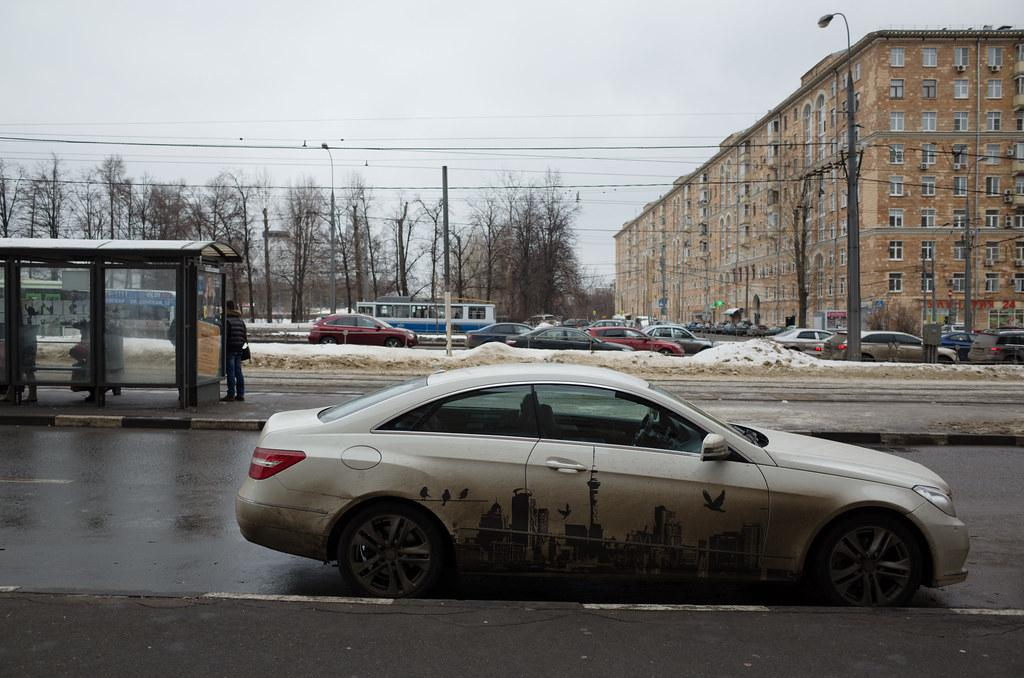car: (236, 362, 972, 608), (821, 331, 960, 364), (309, 314, 419, 348), (507, 326, 634, 354), (585, 327, 685, 357), (642, 326, 713, 355), (969, 329, 1024, 365), (770, 328, 835, 357), (467, 323, 534, 350)
